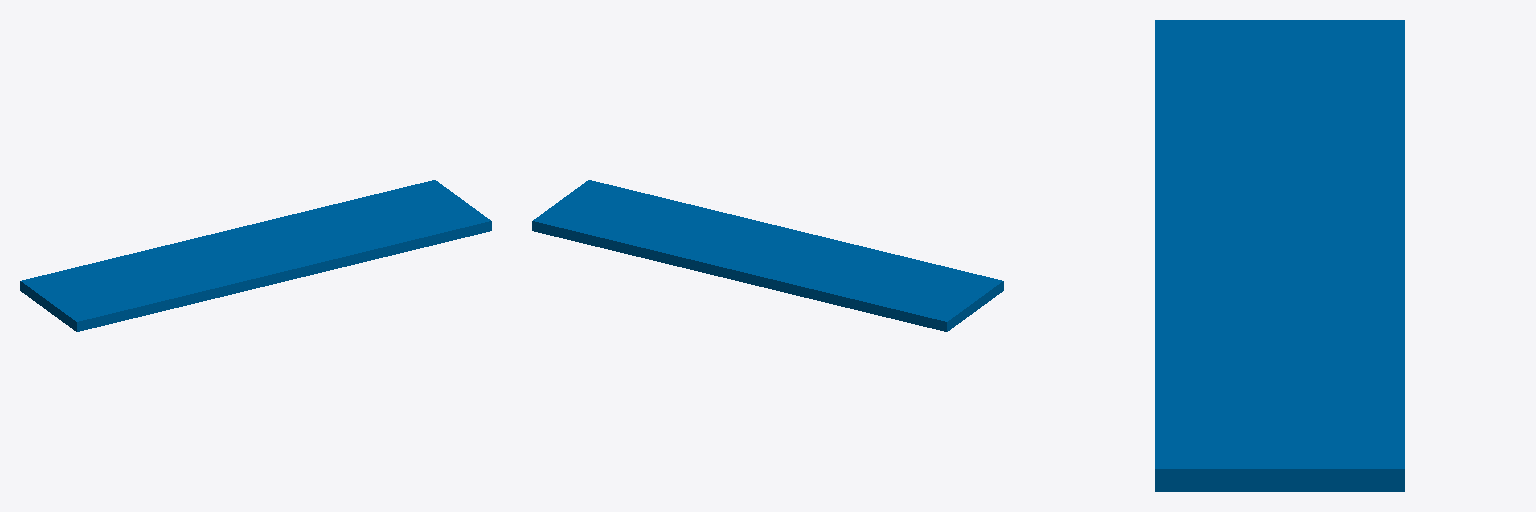
URDF robot description (ur5):
<?xml version="1.0" encoding="utf-8"?>
<!-- =================================================================================== -->
<!-- |    This document was autogenerated by xacro from ur5_robotiq85_gripper.urdf.xacro | -->
<!-- |    EDITING THIS FILE BY HAND IS NOT RECOMMENDED                                 | -->
<!-- =================================================================================== -->
<robot name="ur5">
  <!-- measured from model -->
  <!--property name="shoulder_height" value="0.089159" /-->
  <!--property name="shoulder_offset" value="0.13585" /-->
  <!-- shoulder_offset - elbow_offset + wrist_1_length = 0.10915 -->
  <!--property name="upper_arm_length" value="0.42500" /-->
  <!--property name="elbow_offset" value="0.1197" /-->
  <!-- CAD measured -->
  <!--property name="forearm_length" value="0.39225" /-->
  <!--property name="wrist_1_length" value="0.093" /-->
  <!-- CAD measured -->
  <!--property name="wrist_2_length" value="0.09465" /-->
  <!-- In CAD this distance is 0.930, but in the spec it is 0.09465 -->
  <!--property name="wrist_3_length" value="0.0823" /-->
  <!-- manually measured -->
  <link name="base_link">
    <visual>
      <geometry>
        <mesh filename="package://ur5_description/meshes/ur5/visual/base.dae"/>
      </geometry>
      <material name="LightGrey">
        <color rgba="0.7 0.7 0.7 1.0"/>
      </material>
    </visual>
    <collision>
      <geometry>
        <mesh filename="package://ur5_description/meshes/ur5/collision/base.stl"/>
      </geometry>
    </collision>
    <inertial>
      <mass value="4.0"/>
      <origin rpy="0 0 0" xyz="0.0 0.0 0.0"/>
      <inertia ixx="0.00443333156" ixy="0.0" ixz="0.0" iyy="0.00443333156" iyz="0.0" izz="0.0072"/>
    </inertial>
  </link>
  <joint name="shoulder_pan_joint" type="revolute">
    <parent link="base_link"/>
    <child link="shoulder_link"/>
    <origin rpy="0.0 0.0 0.0" xyz="0.0 0.0 0.089159"/>
    <axis xyz="0 0 1"/>
    <limit effort="150.0" lower="-3.14159265359" upper="3.14159265359" velocity="3.15"/>
    <dynamics damping="0.0" friction="0.0"/>
  </joint>
  <link name="shoulder_link">
    <visual>
      <geometry>
        <mesh filename="package://ur5_description/meshes/ur5/visual/shoulder.dae"/>
      </geometry>
      <material name="LightGrey">
        <color rgba="0.7 0.7 0.7 1.0"/>
      </material>
    </visual>
    <collision>
      <geometry>
        <mesh filename="package://ur5_description/meshes/ur5/collision/shoulder.stl"/>
      </geometry>
    </collision>
    <inertial>
      <mass value="3.7"/>
      <origin rpy="0 0 0" xyz="0.0 0.0 0.0"/>
      <inertia ixx="0.010267495893" ixy="0.0" ixz="0.0" iyy="0.010267495893" iyz="0.0" izz="0.00666"/>
    </inertial>
  </link>
  <joint name="shoulder_lift_joint" type="revolute">
    <parent link="shoulder_link"/>
    <child link="upper_arm_link"/>
    <origin rpy="0.0 1.57079632679 0.0" xyz="0.0 0.13585 0.0"/>
    <axis xyz="0 1 0"/>
    <limit effort="150.0" lower="-3.14159265359" upper="3.14159265359" velocity="3.15"/>
    <dynamics damping="0.0" friction="0.0"/>
  </joint>
  <link name="upper_arm_link">
    <visual>
      <geometry>
        <mesh filename="package://ur5_description/meshes/ur5/visual/upperarm.dae"/>
      </geometry>
      <material name="LightGrey">
        <color rgba="0.7 0.7 0.7 1.0"/>
      </material>
    </visual>
    <collision>
      <geometry>
        <mesh filename="package://ur5_description/meshes/ur5/collision/upperarm.stl"/>
      </geometry>
    </collision>
    <inertial>
      <mass value="8.393"/>
      <origin rpy="0 0 0" xyz="0.0 0.0 0.28"/>
      <inertia ixx="0.22689067591" ixy="0.0" ixz="0.0" iyy="0.22689067591" iyz="0.0" izz="0.0151074"/>
    </inertial>
  </link>
  <joint name="elbow_joint" type="revolute">
    <parent link="upper_arm_link"/>
    <child link="forearm_link"/>
    <origin rpy="0.0 0.0 0.0" xyz="0.0 -0.1197 0.425"/>
    <axis xyz="0 1 0"/>
    <limit effort="150.0" lower="-3.14159265359" upper="3.14159265359" velocity="3.15"/>
    <dynamics damping="0.0" friction="0.0"/>
  </joint>
  <link name="forearm_link">
    <visual>
      <geometry>
        <mesh filename="package://ur5_description/meshes/ur5/visual/forearm.dae"/>
      </geometry>
      <material name="LightGrey">
        <color rgba="0.7 0.7 0.7 1.0"/>
      </material>
    </visual>
    <collision>
      <geometry>
        <mesh filename="package://ur5_description/meshes/ur5/collision/forearm.stl"/>
      </geometry>
    </collision>
    <inertial>
      <mass value="2.275"/>
      <origin rpy="0 0 0" xyz="0.0 0.0 0.25"/>
      <inertia ixx="0.049443313556" ixy="0.0" ixz="0.0" iyy="0.049443313556" iyz="0.0" izz="0.004095"/>
    </inertial>
  </link>
  <joint name="wrist_1_joint" type="revolute">
    <parent link="forearm_link"/>
    <child link="wrist_1_link"/>
    <origin rpy="0.0 1.57079632679 0.0" xyz="0.0 0.0 0.39225"/>
    <axis xyz="0 1 0"/>
    <limit effort="28.0" lower="-3.14159265359" upper="3.14159265359" velocity="3.2"/>
    <dynamics damping="0.0" friction="0.0"/>
  </joint>
  <link name="wrist_1_link">
    <visual>
      <geometry>
        <mesh filename="package://ur5_description/meshes/ur5/visual/wrist1.dae"/>
      </geometry>
      <material name="LightGrey">
        <color rgba="0.7 0.7 0.7 1.0"/>
      </material>
    </visual>
    <collision>
      <geometry>
        <mesh filename="package://ur5_description/meshes/ur5/collision/wrist1.stl"/>
      </geometry>
    </collision>
    <inertial>
      <mass value="1.219"/>
      <origin rpy="0 0 0" xyz="0.0 0.0 0.0"/>
      <inertia ixx="0.111172755531" ixy="0.0" ixz="0.0" iyy="0.111172755531" iyz="0.0" izz="0.21942"/>
    </inertial>
  </link>
  <joint name="wrist_2_joint" type="revolute">
    <parent link="wrist_1_link"/>
    <child link="wrist_2_link"/>
    <origin rpy="0.0 0.0 0.0" xyz="0.0 0.093 0.0"/>
    <axis xyz="0 0 1"/>
    <limit effort="28.0" lower="-3.14159265359" upper="3.14159265359" velocity="3.2"/>
    <dynamics damping="0.0" friction="0.0"/>
  </joint>
  <link name="wrist_2_link">
    <visual>
      <geometry>
        <mesh filename="package://ur5_description/meshes/ur5/visual/wrist2.dae"/>
      </geometry>
      <material name="LightGrey">
        <color rgba="0.7 0.7 0.7 1.0"/>
      </material>
    </visual>
    <collision>
      <geometry>
        <mesh filename="package://ur5_description/meshes/ur5/collision/wrist2.stl"/>
      </geometry>
    </collision>
    <inertial>
      <mass value="1.219"/>
      <origin rpy="0 0 0" xyz="0.0 0.0 0.0"/>
      <inertia ixx="0.111172755531" ixy="0.0" ixz="0.0" iyy="0.111172755531" iyz="0.0" izz="0.21942"/>
    </inertial>
  </link>
  <joint name="wrist_3_joint" type="revolute">
    <parent link="wrist_2_link"/>
    <child link="wrist_3_link"/>
    <origin rpy="0.0 0.0 0.0" xyz="0.0 0.0 0.09465"/>
    <axis xyz="0 1 0"/>
    <limit effort="28.0" lower="-3.14159265359" upper="3.14159265359" velocity="3.2"/>
    <dynamics damping="0.0" friction="0.0"/>
  </joint>
  <link name="wrist_3_link">
    <visual>
      <geometry>
        <mesh filename="package://ur5_description/meshes/ur5/visual/wrist3.dae"/>
      </geometry>
      <material name="LightGrey">
        <color rgba="0.7 0.7 0.7 1.0"/>
      </material>
    </visual>
    <collision>
      <geometry>
        <mesh filename="package://ur5_description/meshes/ur5/collision/wrist3.stl"/>
      </geometry>
    </collision>
    <inertial>
      <mass value="0.1879"/>
      <origin rpy="0 0 0" xyz="0.0 0.0 0.0"/>
      <inertia ixx="0.0171364731454" ixy="0.0" ixz="0.0" iyy="0.0171364731454" iyz="0.0" izz="0.033822"/>
    </inertial>
  </link>
  <joint name="ee_fixed_joint" type="fixed">
    <parent link="wrist_3_link"/>
    <child link="ee_link"/>
    <origin rpy="0.0 0.0 1.57079632679" xyz="0.0 0.0823 0.0"/>
  </joint>
  <link name="ee_link">
    <collision>
      <geometry>
        <box size="0.01 0.01 0.01"/>
      </geometry>
      <origin rpy="0 0 0" xyz="-0.01 0 0"/>
    </collision>
  </link>
  <transmission name="shoulder_pan_trans">
    <type>transmission_interface/SimpleTransmission</type>
    <joint name="shoulder_pan_joint">
      <hardwareInterface>PositionJointInterface</hardwareInterface>
    </joint>
    <actuator name="shoulder_pan_motor">
      <mechanicalReduction>1</mechanicalReduction>
    </actuator>
  </transmission>
  <transmission name="shoulder_lift_trans">
    <type>transmission_interface/SimpleTransmission</type>
    <joint name="shoulder_lift_joint">
      <hardwareInterface>PositionJointInterface</hardwareInterface>
    </joint>
    <actuator name="shoulder_lift_motor">
      <mechanicalReduction>1</mechanicalReduction>
    </actuator>
  </transmission>
  <transmission name="elbow_trans">
    <type>transmission_interface/SimpleTransmission</type>
    <joint name="elbow_joint">
      <hardwareInterface>PositionJointInterface</hardwareInterface>
    </joint>
    <actuator name="elbow_motor">
      <mechanicalReduction>1</mechanicalReduction>
    </actuator>
  </transmission>
  <transmission name="wrist_1_trans">
    <type>transmission_interface/SimpleTransmission</type>
    <joint name="wrist_1_joint">
      <hardwareInterface>PositionJointInterface</hardwareInterface>
    </joint>
    <actuator name="wrist_1_motor">
      <mechanicalReduction>1</mechanicalReduction>
    </actuator>
  </transmission>
  <transmission name="wrist_2_trans">
    <type>transmission_interface/SimpleTransmission</type>
    <joint name="wrist_2_joint">
      <hardwareInterface>PositionJointInterface</hardwareInterface>
    </joint>
    <actuator name="wrist_2_motor">
      <mechanicalReduction>1</mechanicalReduction>
    </actuator>
  </transmission>
  <transmission name="wrist_3_trans">
    <type>transmission_interface/SimpleTransmission</type>
    <joint name="wrist_3_joint">
      <hardwareInterface>PositionJointInterface</hardwareInterface>
    </joint>
    <actuator name="wrist_3_motor">
      <mechanicalReduction>1</mechanicalReduction>
    </actuator>
  </transmission>
  <!-- nothing to do here at the moment -->
  <!-- ROS base_link to UR 'Base' Coordinates transform -->
  <link name="base"/>
  <joint name="base_link-base_fixed_joint" type="fixed">
    <!-- NOTE: this rotation is only needed as long as base_link itself is
                 not corrected wrt the real robot (ie: rotated over 180
                 degrees)
      -->
    <origin rpy="0 0 -3.14159265359" xyz="0 0 0"/>
    <parent link="base_link"/>
    <child link="base"/>
  </joint>
  <!-- Frame coincident with all-zeros TCP on UR controller -->
  <link name="tool0"/>
  <joint name="wrist_3_link-tool0_fixed_joint" type="fixed">
    <origin rpy="-1.57079632679 0 0" xyz="0 0.0823 0"/>
    <parent link="wrist_3_link"/>
    <child link="tool0"/>
  </joint>
  <link name="world"/>
  <joint name="world_joint" type="fixed">
    <parent link="world"/>
    <child link="base_link"/>
    <origin rpy="0.0 0.0 0.0" xyz="0.0 0.0 0.0"/>
  </joint>
  <!-- Robotiq Coupler -->
  <!--  + Height added by the coupler: 8mm -->
  <!--  + Reference frame: at the middle (4mm) -->
  <link name="robotiq_coupler">
    <visual>
      <geometry>
        <mesh filename="package://robotiq_description/meshes/robotiq_85_coupler.stl"/>
      </geometry>
      <material name="flat_black"/>
    </visual>
    <collision>
      <geometry>
        <mesh filename="package://robotiq_description/meshes/robotiq_85_coupler.stl"/>
      </geometry>
    </collision>
    <inertial>
      <origin rpy="0 0 0" xyz="2.073e-05   1.45286e-03  -1.1049e-03"/>
      <mass value="0.168"/>
      <inertia ixx="6.69695624e-05" ixy="5.21511788e-09" ixz="-2.74383009e-08" iyy="7.85088161e-05" iyz="5.41105193e-07" izz="1.41819717e-04"/>
    </inertial>
  </link>
  <joint name="robotiq_coupler_joint" type="fixed">
    <origin rpy="0 0 -1.57079632679" xyz="0 0 0.004"/>
    <parent link="tool0"/>
    <child link="robotiq_coupler"/>
  </joint>
  <!-- Equivalent to the OpenRAVE manipulator denso_robotiq_85_gripper -->
  <!-- <link name="denso_robotiq_85_gripper" /> -->
  <!-- <joint name="manipulator_dummy_joint" type="fixed"> -->
  <!--   <origin xyz="0 0 0.1441" rpy="0 0 0" /> -->
  <!--   <parent link="robotiq_coupler"/> -->
  <!--   <child link="denso_robotiq_85_gripper"/> -->
  <!-- </joint> -->

  <link name="dummy_center_indicator_link">
    <visual>
      <geometry>
        <box size="0.020 0.085 0.002"/>
      </geometry>
    </visual>
    <inertial>
      <mass value="0.1" />
      <inertia ixx = "0" ixy = "0" ixz = "0"
               iyx = "0" iyy = "0" iyz = "0"
               izx = "0" izy = "0" izz = "0" />
    </inertial>
  </link>

  <joint name="dummy_center_fixed_joint" type="fixed">
    <parent link="robotiq_coupler"/>
    <child link="dummy_center_indicator_link"/>
    <origin rpy="0 1.57079632679 0" xyz="0 0 0.137" />
  </joint>

  <joint name="robotiq_85_base_joint" type="fixed">
    <parent link="robotiq_coupler"/>
    <child link="robotiq_85_base_link"/>
    <origin rpy="0 -1.57079632679 3.14159265359" xyz="0 0 0.004"/>
  </joint>
      <link name="robotiq_85_base_link">
      <visual>
        <geometry>
          <mesh filename="package://robotiq_description/meshes/visual/robotiq_85_base_link.dae"/>
        </geometry>
      </visual>
      <collision>
        <geometry>
          <mesh filename="package://robotiq_description/meshes/collision/robotiq_85_base_link.stl"/>
        </geometry>
      </collision>
      <inertial>
        <mass value="0.636951" />
        <origin xyz="0.0 0.0 0.0" />
        <inertia ixx = "0.000380" ixy = "0.000000" ixz = "0.000000"
             iyx = "0.000000" iyy = "0.001110" iyz = "0.000000"
             izx = "0.000000" izy = "0.000000" izz = "0.001171" />
      </inertial>
    </link>
  <joint name="robotiq_85_left_knuckle_joint" type="revolute">
      <parent link="robotiq_85_base_link"/>
      <child link="robotiq_85_left_knuckle_link"/>
      <axis xyz="0 0 1"/>
      <origin rpy="3.14 0.0 0.0" xyz="0.05490451627 0.03060114443 0.0"/>
      <limit lower="0.0" upper="0.80285" velocity="3.14" effort="1000"/>
    </joint>

    <joint name="robotiq_85_right_knuckle_joint" type="revolute">
      <parent link="robotiq_85_base_link"/>
      <child link="robotiq_85_right_knuckle_link"/>
      <axis xyz="0 0 1"/>
      <origin rpy="0.0 0.0 0.0" xyz="0.05490451627 -0.03060114443 0.0"/>
      <limit lower="-3.14" upper="3.14" velocity="3.14" effort="1000"/>
      <mimic joint="robotiq_85_left_knuckle_joint"/>
    </joint>

    <link name="robotiq_85_left_knuckle_link">
      <inertial>
        <mass value="0.018491" />
        <origin xyz="0.0 0.0 0.0" />
        <inertia ixx = "0.000009" ixy = "-0.000001" ixz = "0.000000"
             iyx = "-0.000001" iyy = "0.000001" iyz = "0.000000"
             izx = "0.000000" izy = "0.000000" izz = "0.000010" />
      </inertial>
    </link>

    <link name="robotiq_85_right_knuckle_link">
      <inertial>
        <mass value="0.018491" />
        <origin xyz="0.0 0.0 0.0" />
        <inertia ixx = "0.000009" ixy = "-0.000001" ixz = "0.000000"
             iyx = "-0.000001" iyy = "0.000001" iyz = "0.000000"
             izx = "0.000000" izy = "0.000000" izz = "0.000010" />
      </inertial>
    </link>

    <joint name="robotiq_85_left_finger_joint" type="fixed">
      <parent link="robotiq_85_left_knuckle_link"/>
      <child link="robotiq_85_left_finger_link"/>
      <origin xyz="-0.00408552455 -0.03148604435 0.0" rpy="0 0 0" />
    </joint>

    <joint name="robotiq_85_right_finger_joint" type="fixed">
      <parent link="robotiq_85_right_knuckle_link"/>
      <child link="robotiq_85_right_finger_link"/>
      <origin xyz="-0.00408552455 -0.03148604435 0.0" rpy="0 0 0" />
    </joint>

    <link name="robotiq_85_left_finger_link">
      <inertial>
        <mass value="0.027309" />
        <origin xyz="0.0 0.0 0.0" />
        <inertia ixx = "0.000003" ixy = "-0.000002" ixz = "0.000000"
             iyx = "-0.000002" iyy = "0.000021" iyz = "0.000000"
             izx = "0.000000" izy = "0.000000" izz = "0.000020" />
      </inertial>
    </link>

    <link name="robotiq_85_right_finger_link">
      <inertial>
        <mass value="0.027309" />
        <origin xyz="0.0 0.0 0.0" />
        <inertia ixx = "0.000003" ixy = "-0.000002" ixz = "0.000000"
             iyx = "-0.000002" iyy = "0.000021" iyz = "0.000000"
             izx = "0.000000" izy = "0.000000" izz = "0.000020" />
      </inertial>
    </link>

    <joint name="robotiq_85_left_inner_knuckle_joint" type="revolute">
      <parent link="robotiq_85_base_link"/>
      <child link="robotiq_85_left_inner_knuckle_link"/>
      <axis xyz="0 0 1"/>
      <origin xyz="0.06142 0.0127 0" rpy="3.14 0.0 0.0" />
      <limit lower="-3.14" upper="3.14" velocity="3.14" effort="0.1"/>
      <mimic joint="robotiq_85_left_knuckle_joint" offset="0"/>
    </joint>

    <joint name="robotiq_85_right_inner_knuckle_joint" type="revolute">
      <parent link="robotiq_85_base_link"/>
      <child link="robotiq_85_right_inner_knuckle_link"/>
      <axis xyz="0 0 1"/>
      <origin xyz="0.06142 -0.0127 0" rpy="0 0 0"/>
      <limit lower="-3.14" upper="3.14" velocity="3.14" effort="0.1"/>
      <mimic joint="robotiq_85_left_knuckle_joint" offset="0"/>
    </joint>

    <link name="robotiq_85_left_inner_knuckle_link">
      <inertial>
        <mass value="0.029951" />
        <origin xyz="0.0 0.0 0.0" />
        <inertia ixx = "0.000039" ixy = "0.000000" ixz = "0.000000"
             iyx = "0.000000" iyy = "0.000005" iyz = "0.000000"
             izx = "0.000000" izy = "0.000000" izz = "0.000035" />
      </inertial>
    </link>
    <link name="robotiq_85_right_inner_knuckle_link">
      <inertial>
        <mass value="0.029951" />
        <origin xyz="0.0 0.0 0.0" />
        <inertia ixx = "0.000039" ixy = "0.000000" ixz = "0.000000"
             iyx = "0.000000" iyy = "0.000005" iyz = "0.000000"
             izx = "0.000000" izy = "0.000000" izz = "0.000035" />
      </inertial>
    </link>

    <joint name="robotiq_85_left_finger_tip_joint" type="revolute">
      <parent link="robotiq_85_left_inner_knuckle_link"/>
      <child link="robotiq_85_left_finger_tip_link"/>
      <axis xyz="0 0 1"/>
      <origin xyz="0.04303959807 -0.03759940821 0.0" rpy="0.0 0.0 0.0"/>
      <limit lower="-3.14" upper="3.14" velocity="3.14" effort="2.1"/>
      <mimic joint="robotiq_85_left_knuckle_joint" multiplier="-1"/>
    </joint>

    <joint name="robotiq_85_right_finger_tip_joint" type="revolute">
      <parent link="robotiq_85_right_inner_knuckle_link"/>
      <child link="robotiq_85_right_finger_tip_link"/>
      <axis xyz="0 0 1"/>
      <origin rpy="0.0 0.0 0.0" xyz="0.04303959807 -0.03759940821  0.0"/>
      <limit lower="-3.14" upper="3.14" velocity="3.14" effort="2.1"/>
      <mimic joint="robotiq_85_left_knuckle_joint" multiplier="-1"/>
    </joint>


    <link name="robotiq_85_left_finger_tip_link">
      <visual>
        <geometry>
          <mesh filename="package://robotiq_description/meshes/visual/robotiq_85_finger_tip_link.dae"/>
        </geometry>
      </visual>
      <collision>
        <geometry>
          <mesh filename="package://robotiq_description/meshes/collision/robotiq_85_finger_tip_link.stl"/>
        </geometry>
      </collision>
      <inertial>
        <mass value="0.019555" />
        <origin xyz="0.0 0.0 0.0" />
        <inertia ixx = "0.000002" ixy = "0.000000" ixz = "0.000000"
             iyx = "0.000000" iyy = "0.000005" iyz = "0.000000"
             izx = "0.000000" izy = "0.000000" izz = "0.000006" />
      </inertial>
    </link>

    <link name="robotiq_85_right_finger_tip_link">
      <visual>
        <geometry>
          <mesh filename="package://robotiq_description/meshes/visual/robotiq_85_finger_tip_link.dae"/>
        </geometry>
      </visual>
      <collision>
        <geometry>
          <mesh filename="package://robotiq_description/meshes/collision/robotiq_85_finger_tip_link.stl"/>
        </geometry>
      </collision>
      <inertial>
        <mass value="0.019555" />
        <origin xyz="0.0 0.0 0.0" />
        <inertia ixx = "0.000002" ixy = "0.000000" ixz = "0.000000"
             iyx = "0.000000" iyy = "0.000005" iyz = "0.000000"
             izx = "0.000000" izy = "0.000000" izz = "0.000006" />
      </inertial>
    </link>
</robot>

--- Facts derived from the render (not from the file) ---
The picture shows the robot from 3 angles, left to right: view 1: azimuth 30°, elevation 25°; view 2: azimuth 150°, elevation 25°; view 3: azimuth 270°, elevation 25°; orthographic projection.
Model ur5 with 22 links and 21 joints (12 revolute, 9 fixed), rooted at world, posed all joints at 0.
Visible links, largest first — view 1: dummy_center_indicator_link; view 2: dummy_center_indicator_link; view 3: dummy_center_indicator_link.
Boxes of the visible links, bbox=[...] form: dummy_center_indicator_link: bbox=[20, 180, 491, 331]; dummy_center_indicator_link: bbox=[532, 180, 1003, 331]; dummy_center_indicator_link: bbox=[1155, 20, 1404, 491].
Bounding box of the posed robot: 0.085 × 0.02 × 0.002 m (x, y, z).
Meshes: 10 distinct files referenced, 0 mesh visuals loaded (none loaded); not drawn: 11 (reference not matched to a file when rendering).